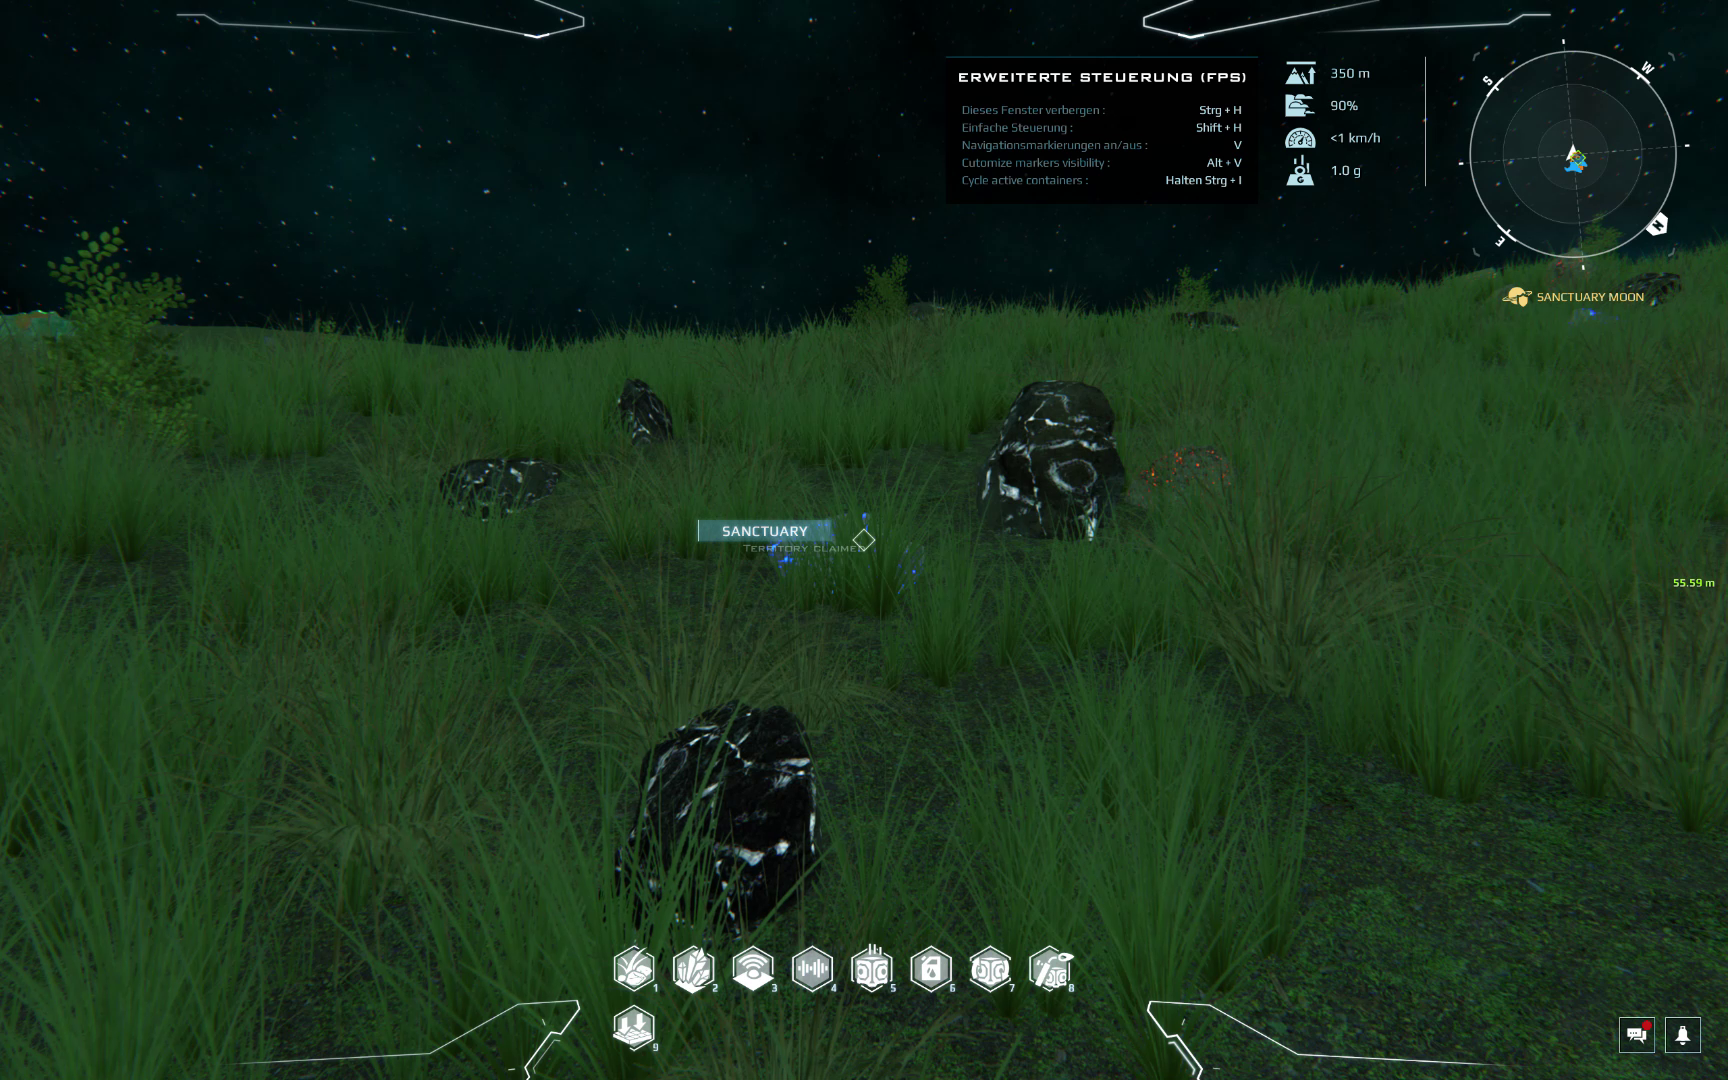Ore: (610, 699, 824, 919), (969, 373, 1135, 551), (763, 508, 924, 598), (433, 455, 569, 510), (1136, 433, 1239, 501), (611, 375, 682, 449), (1162, 306, 1242, 340), (1614, 272, 1686, 306), (1553, 249, 1594, 285), (1566, 299, 1609, 332)
